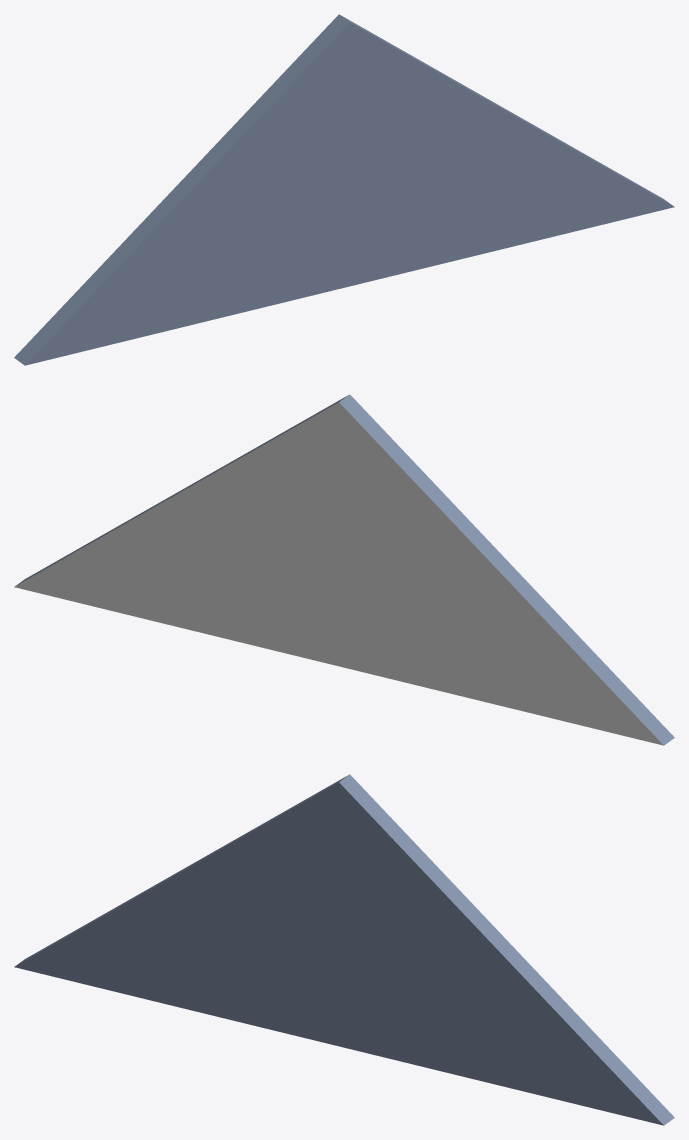
Rendered from Wall1_C3_16.fbx.
3 views of the same model, one above another, from view 1: azimuth 30°, elevation 25°; view 2: azimuth 150°, elevation 25°; view 3: azimuth 330°, elevation 25° (orthographic).
Visible parts, largest first — view 1: Wall1_C3_16; view 2: Wall1_C3_16; view 3: Wall1_C3_16.
Part boxes in pixels (left/top/right/bottom): Wall1_C3_16: left=14, top=14, right=674, bottom=365; Wall1_C3_16: left=14, top=394, right=674, bottom=745; Wall1_C3_16: left=14, top=774, right=674, bottom=1125.
Bounding box in the file's own units: 515 × 200 × 15.
